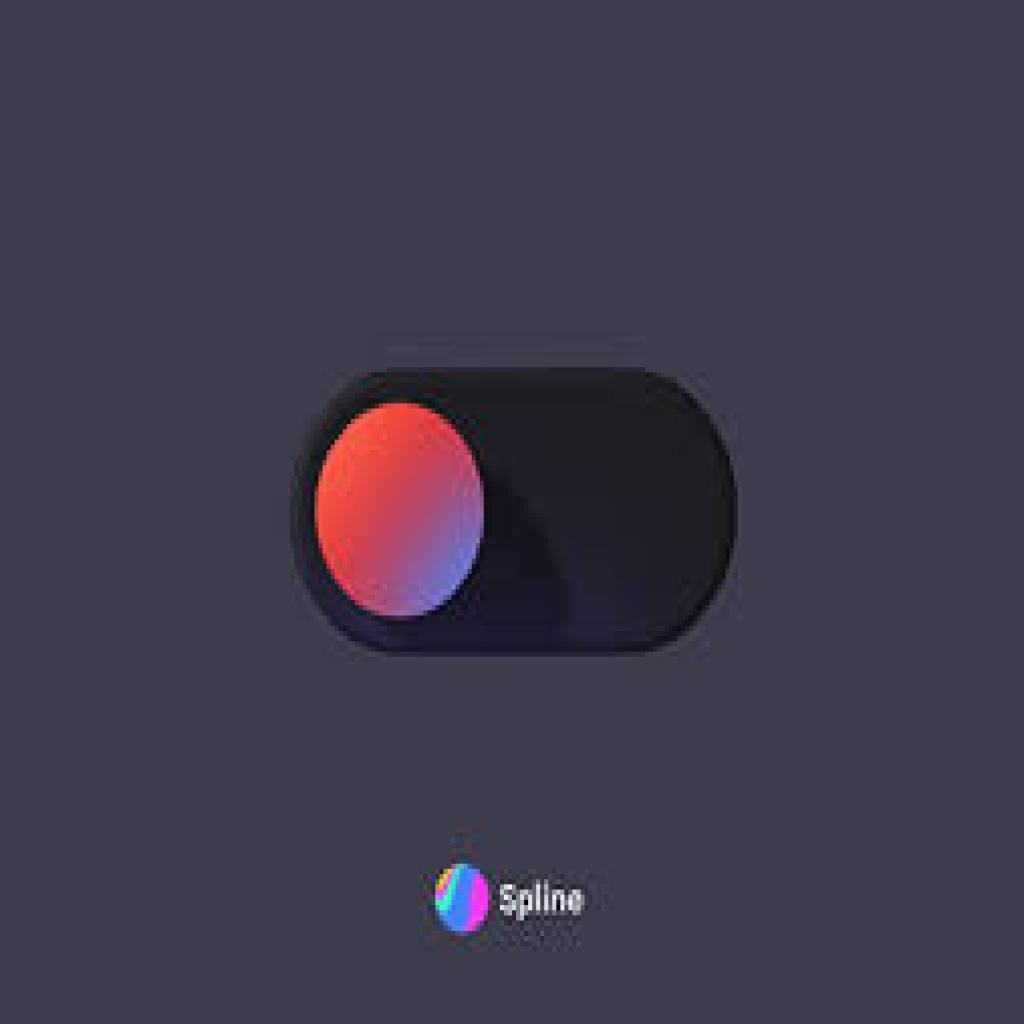switch: (274, 348, 745, 670)
